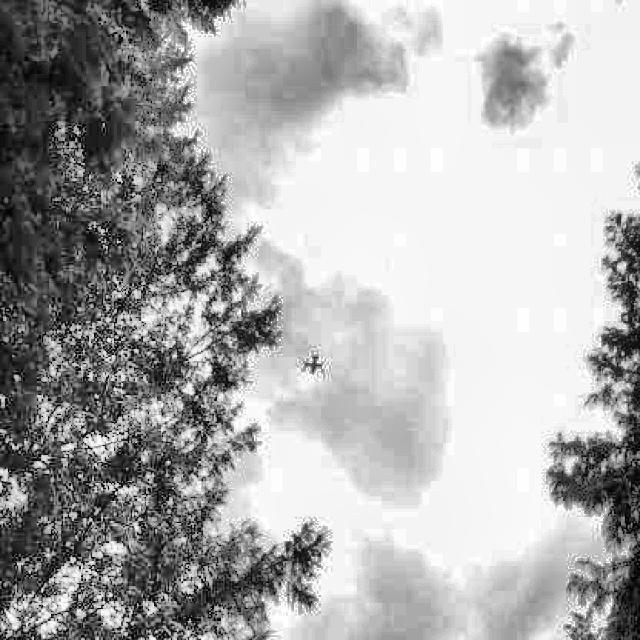V22: (302, 353, 324, 375)
